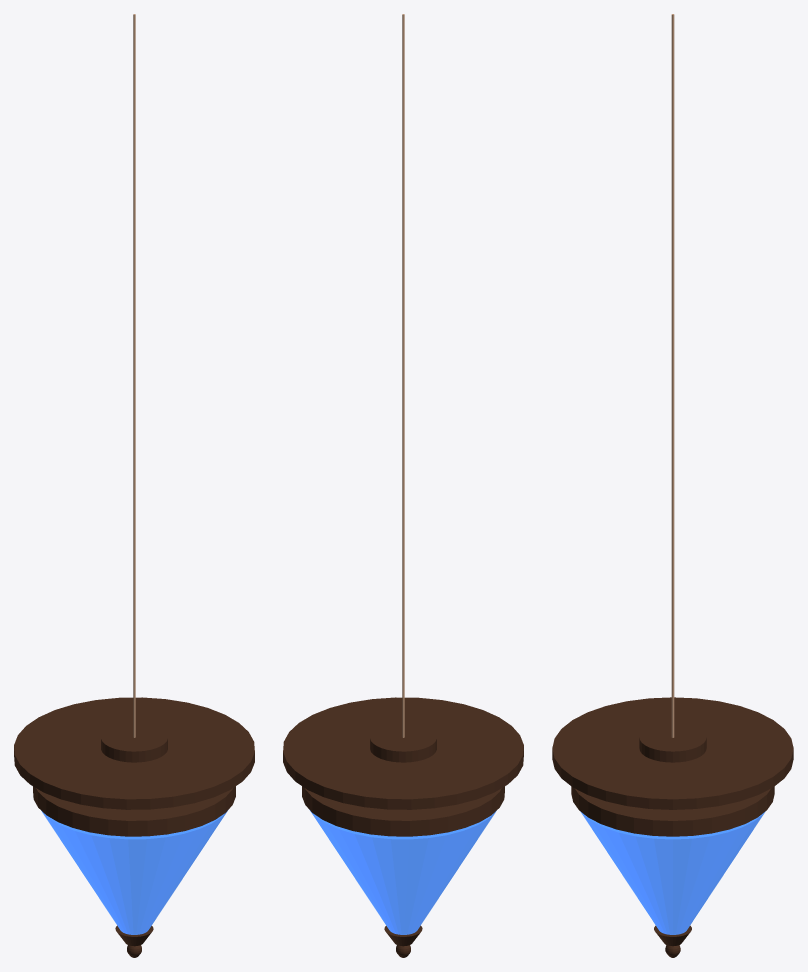
File: Luce 3 Blu .fbx
3 views of the same model, side by side, from view 1: azimuth 30°, elevation 25°; view 2: azimuth 150°, elevation 25°; view 3: azimuth 270°, elevation 25° (orthographic).
Parts seen in each view (by area): view 1: Cylinder.365; view 2: Cylinder.365; view 3: Cylinder.365.
Boxes of the visible parts, x1,y1,x2,y2 form: Cylinder.365: (14, 14, 254, 957); Cylinder.365: (283, 14, 523, 957); Cylinder.365: (552, 14, 793, 957).
Size of the model in its own units: 51.04 by 220 by 51.04.
